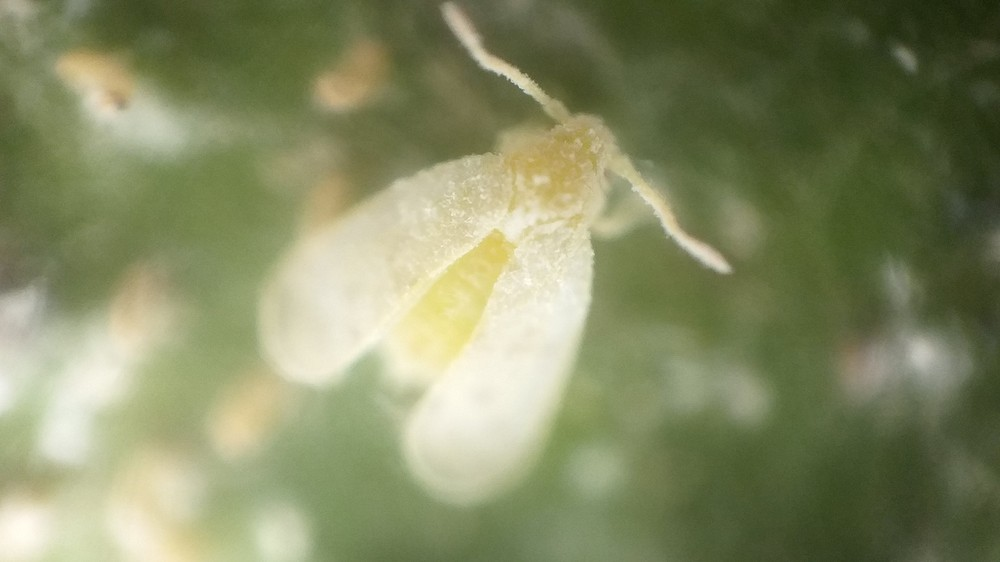Mosca Blanca: (252, 7, 741, 530)
